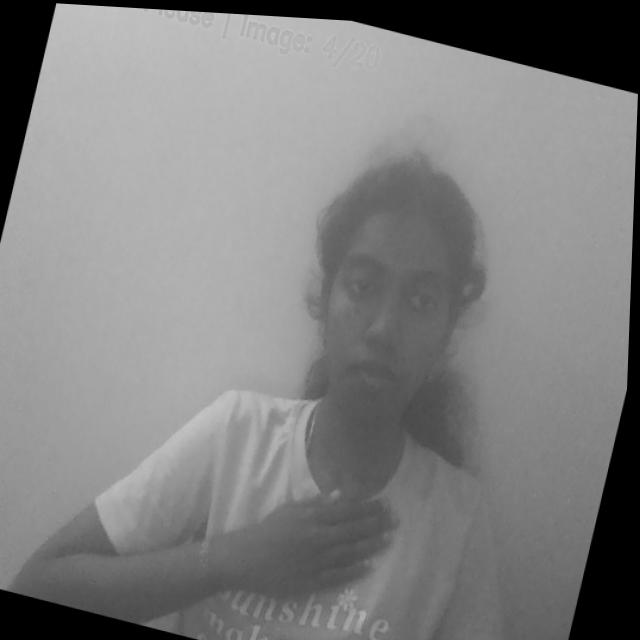Please: (216, 452, 420, 640)
